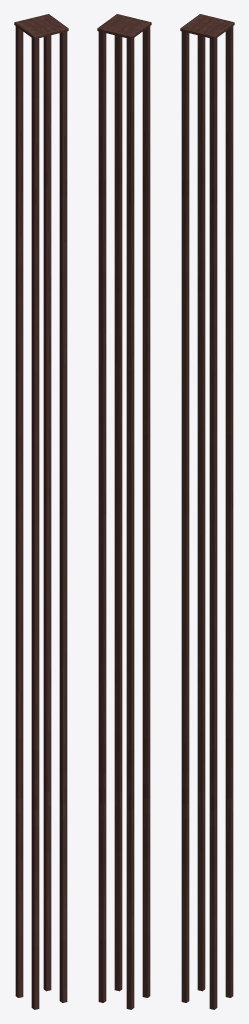
Rendered from table.glb.
3 renders of one model, left to right at view 1: azimuth 30°, elevation 25°; view 2: azimuth 150°, elevation 25°; view 3: azimuth 330°, elevation 25°, orthographic.
Parts seen in each view (by area): view 1: Cube; view 2: Cube; view 3: Cube.
Part boxes in pixels (x1,y1,x2,y2): Cube: (14, 14, 68, 1009); Cube: (97, 14, 151, 1009); Cube: (180, 14, 234, 1009).
Size of the model in its own units: 0.75 by 20.06 by 0.75.
Materials: 1 (1 with a texture image).
